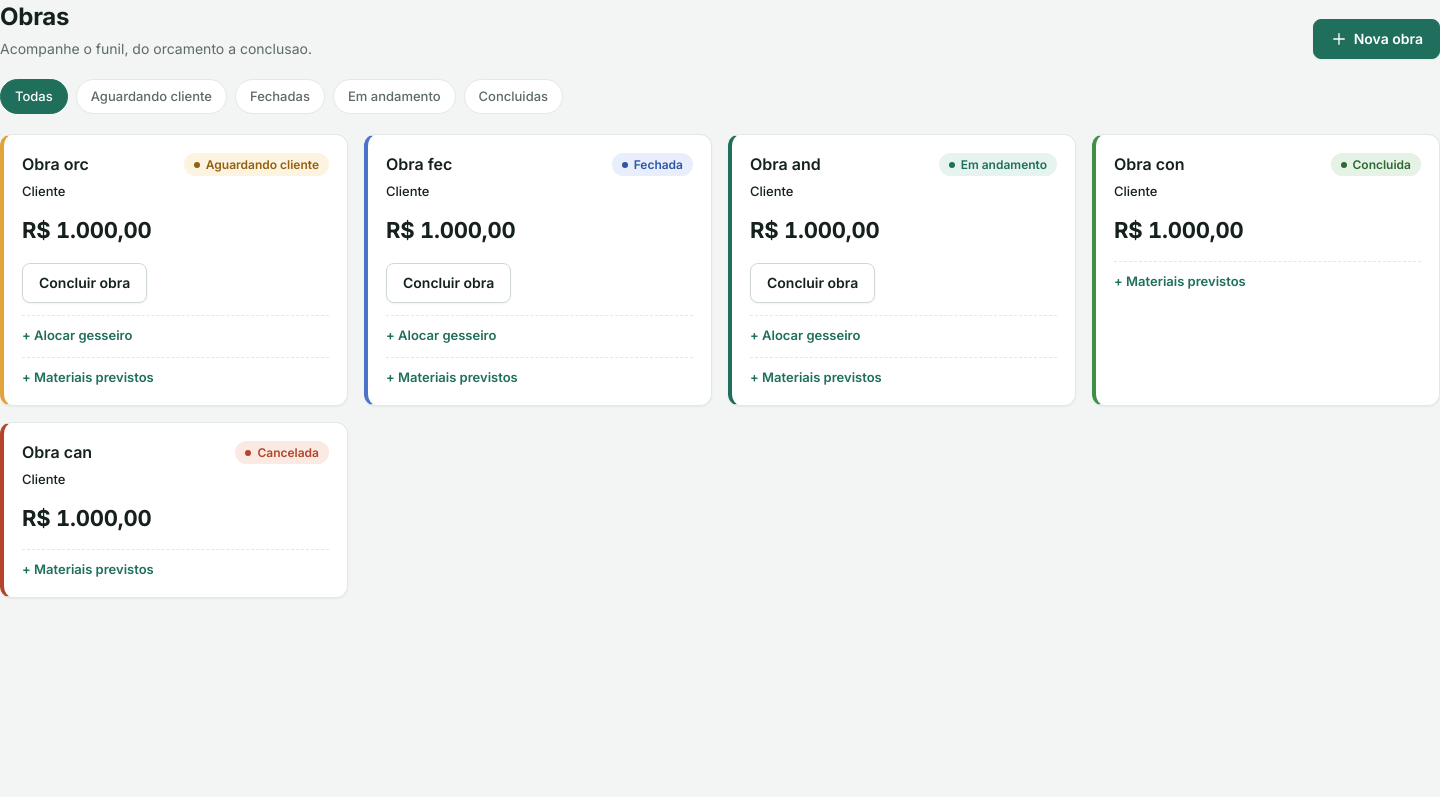
it: Obras › recarrega a lista depois de criar uma obra com o filtro ja em Todas
This screenshot has width=1440, height=797.
Expected: the heading "Obra orc" is shown, [22, 153, 89, 176]
Click the button "Nova obra".
click(1376, 39)  # box [1313, 19, 1439, 59]
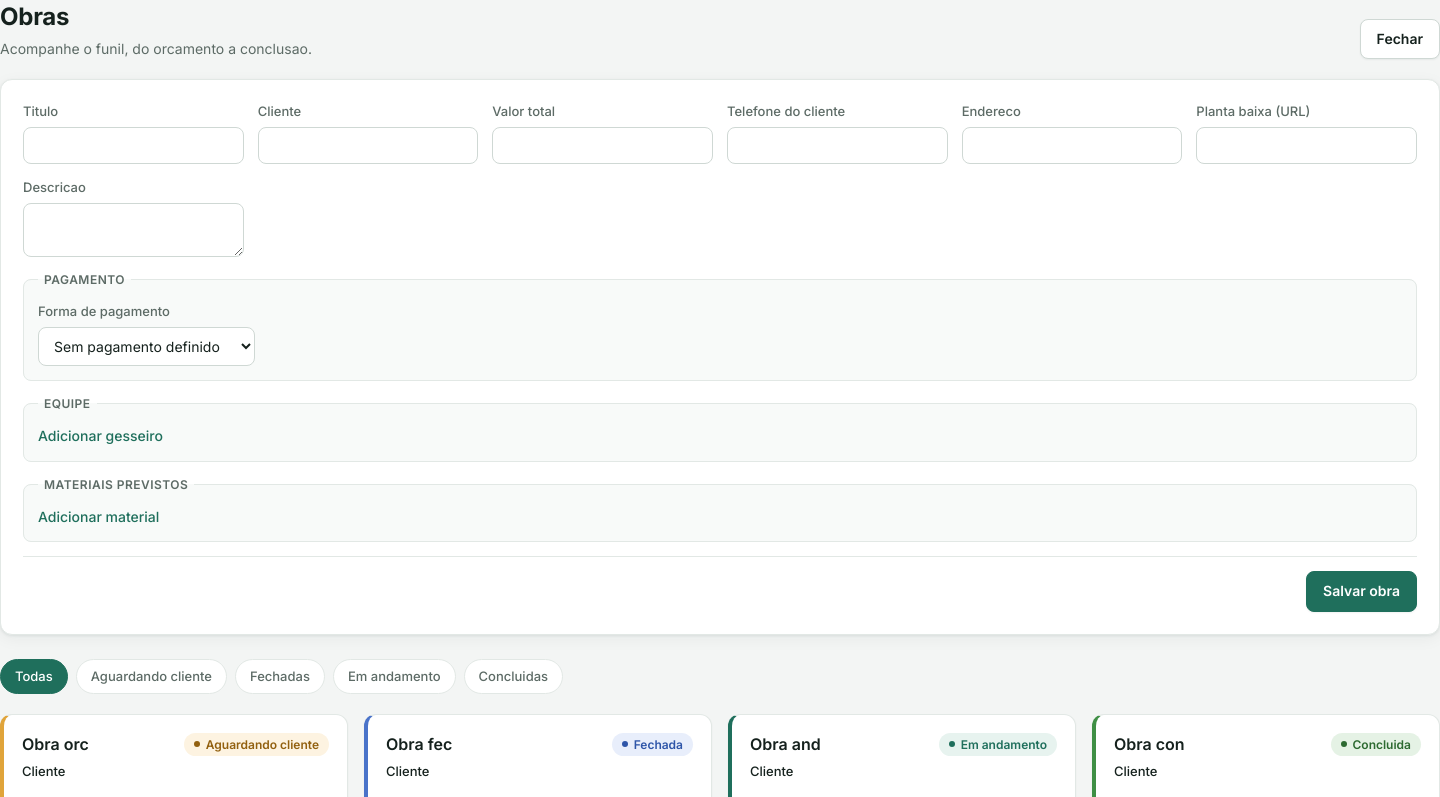
Type "Forro sala" into the field labelled "Titulo".
click(133, 145); type("Forro sala")  # box [23, 127, 244, 164]
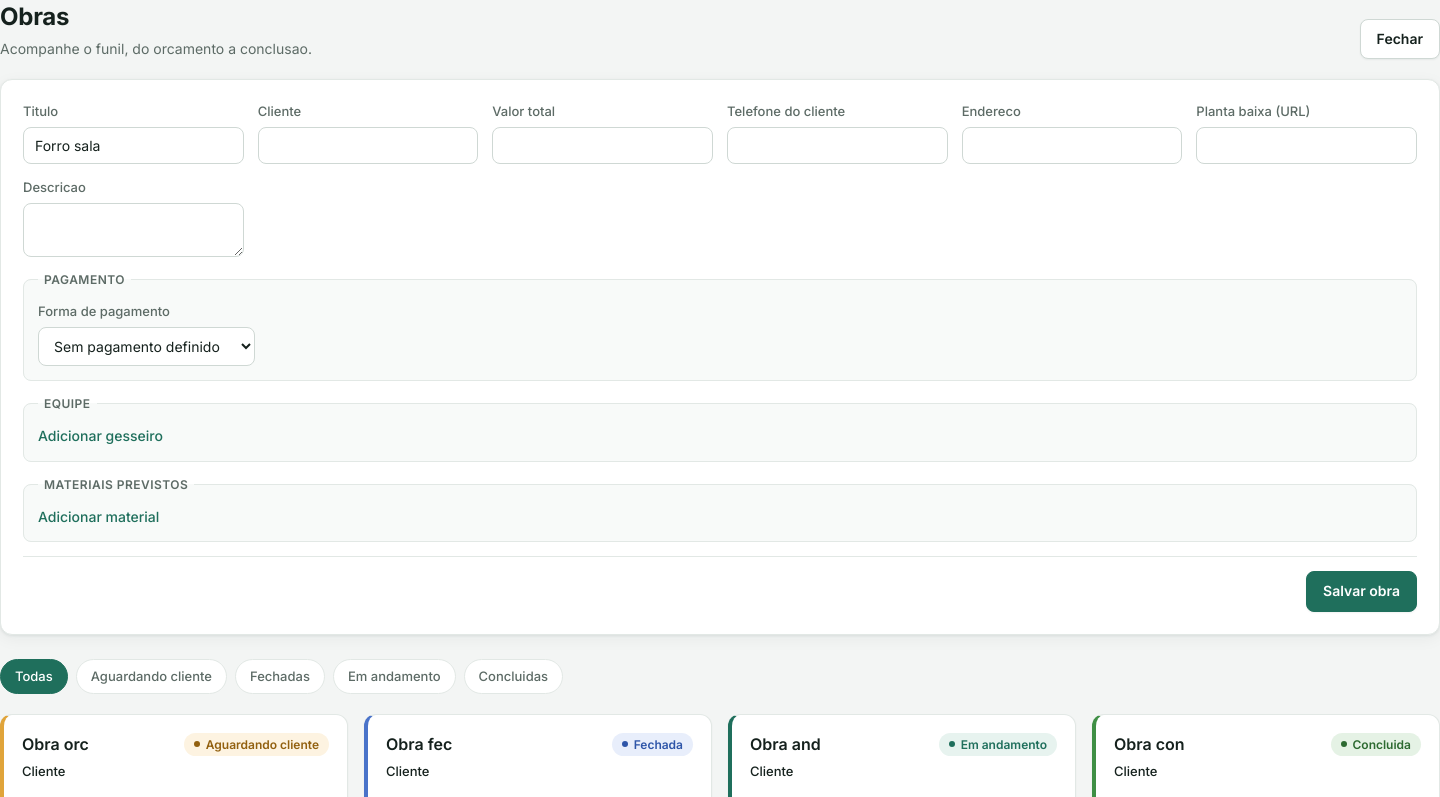
Type "Maria Silva" into the field labelled "Cliente".
click(368, 145); type("Maria Silva")  # box [258, 127, 478, 164]
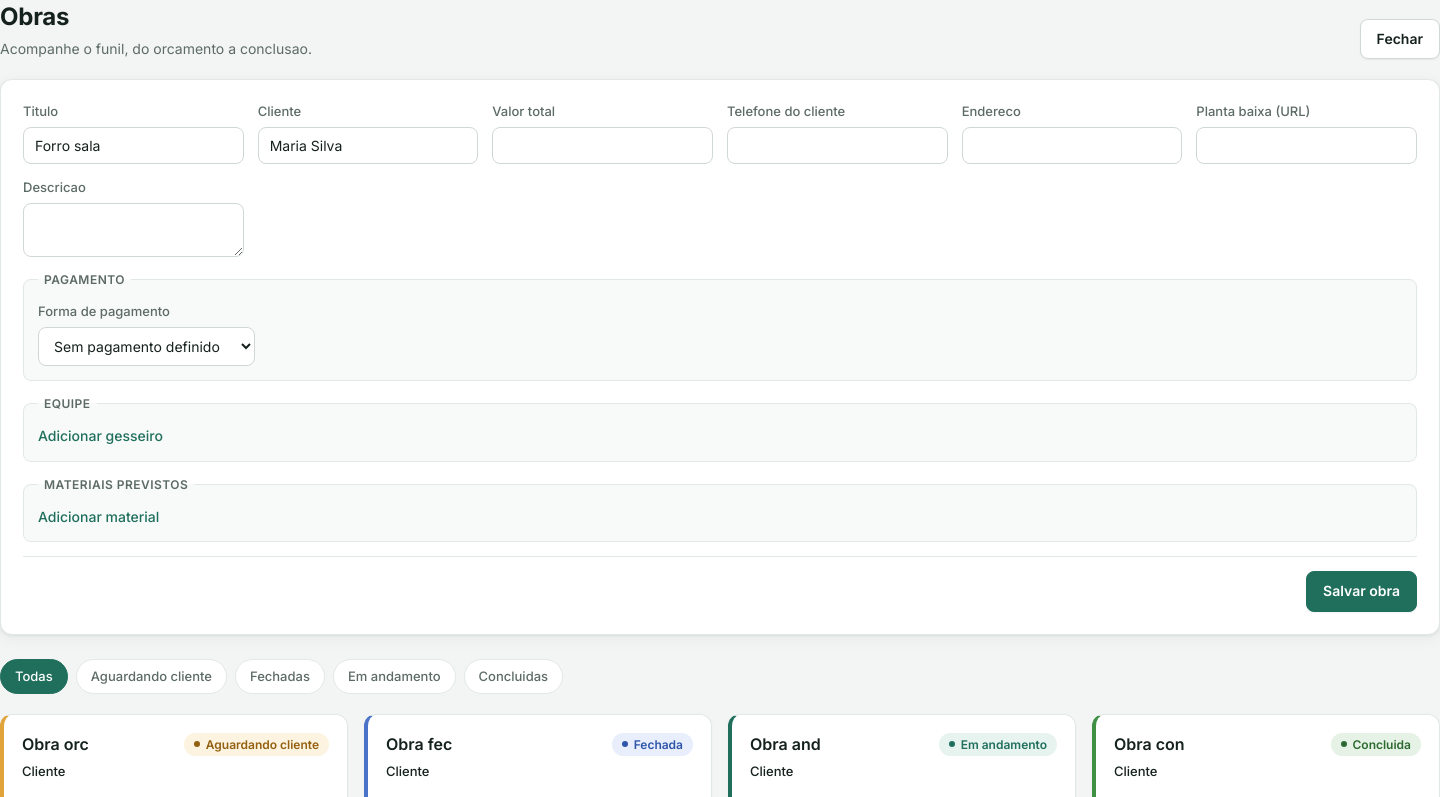
Type "8500" into the number field labelled "Valor total".
click(603, 145); type("8500")  # box [492, 127, 713, 164]
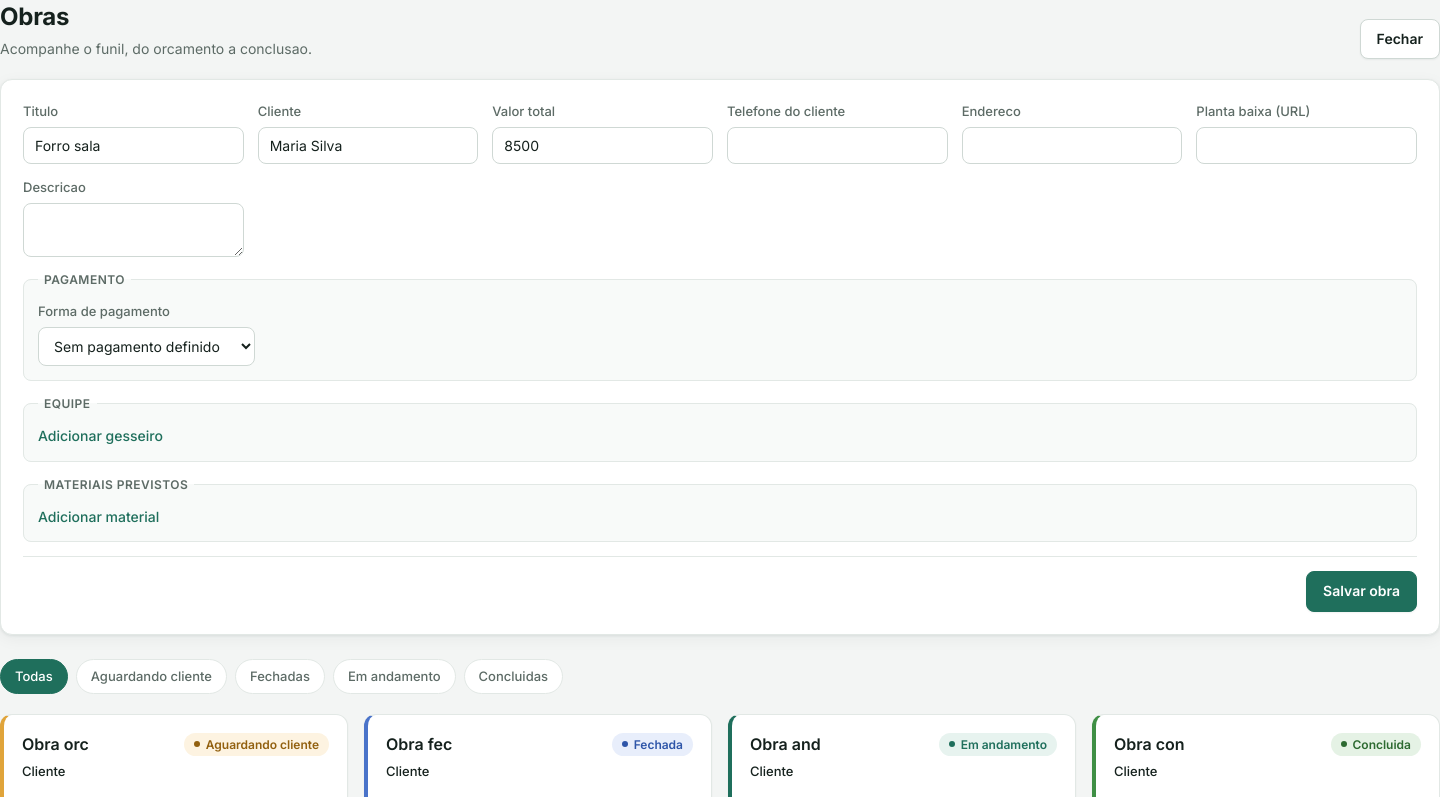
Click the button "Salvar obra".
click(1362, 592)  # box [1306, 571, 1417, 612]
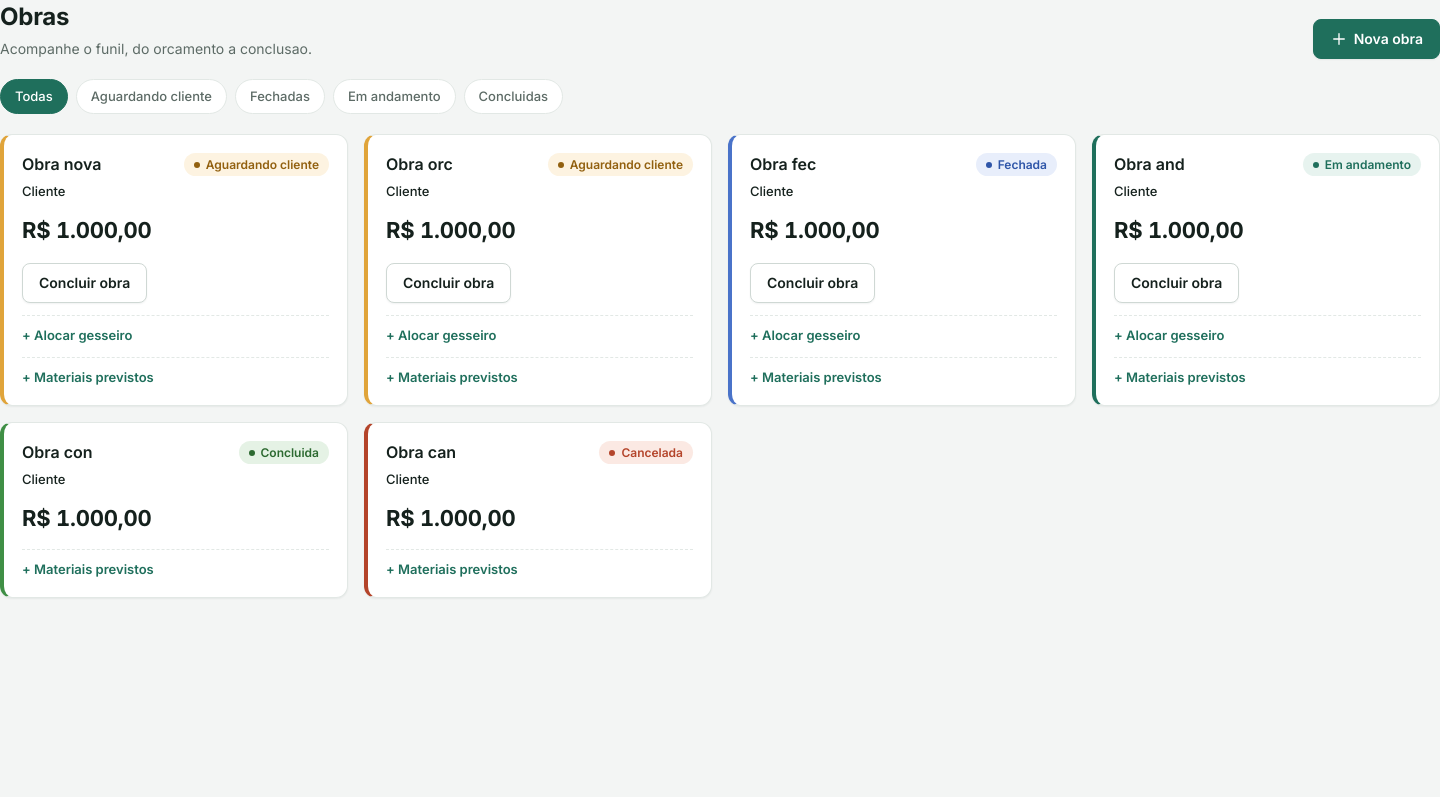
Expected: the text "Aguardando cliente" next to "Obra nova" is shown, [206, 157, 319, 172]
